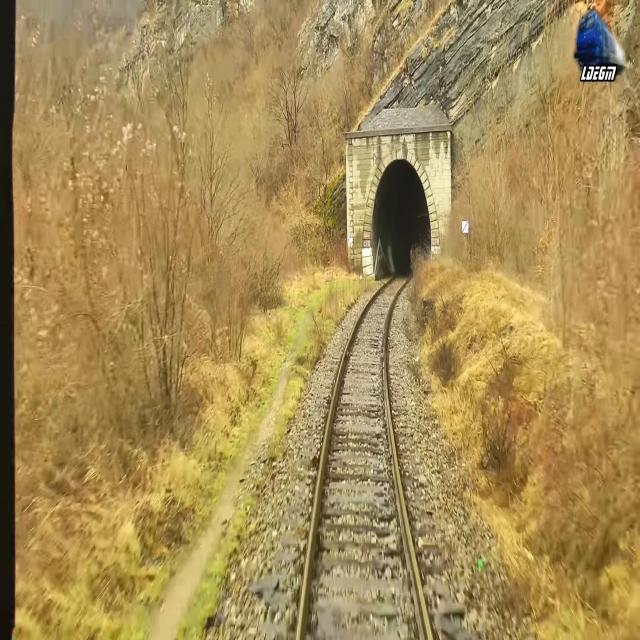rail-track: (301, 269, 428, 639)
